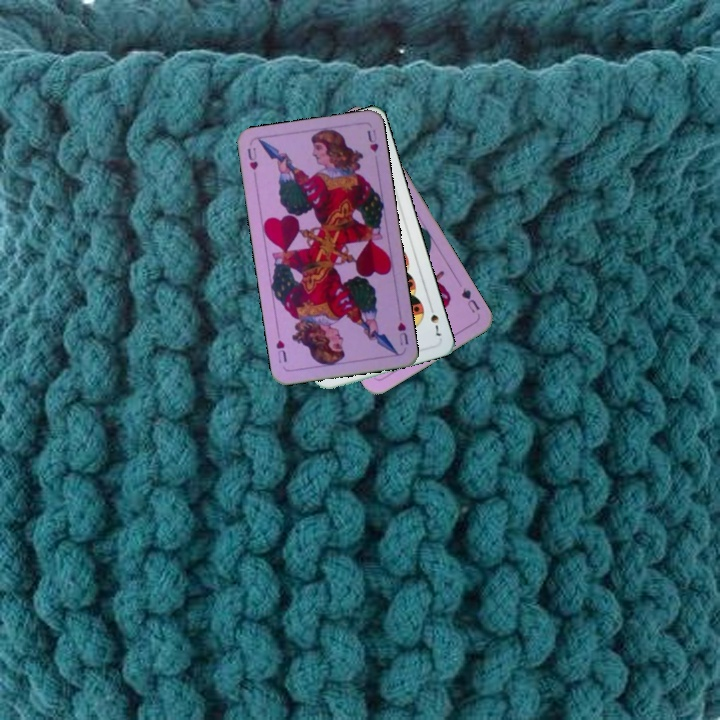GU: (457, 284, 482, 316)
HU: (393, 318, 411, 348), (243, 143, 260, 172)
S7: (425, 301, 444, 339)
